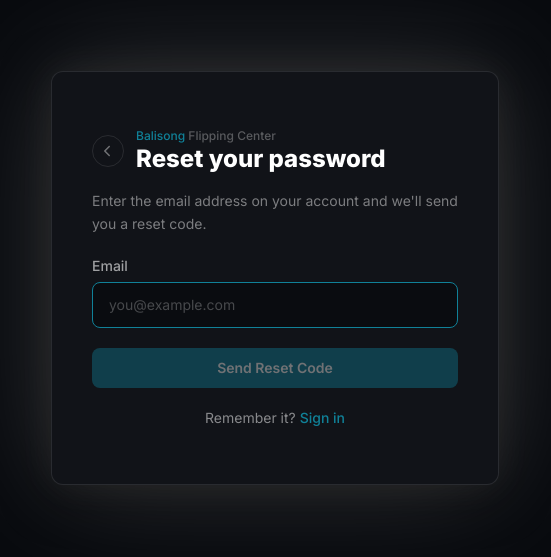
Test case: ForgotPasswordPage — email step › shows a specific message for an unknown email (404)
Type "nobody@example.com" into the field with placeholder "you@example.com". click: [275, 305]
box: [92,282,458,328]
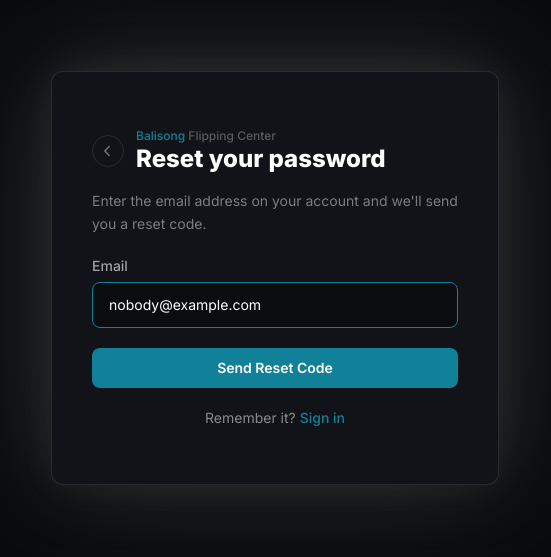
Click the button "Send Reset Code". click: [275, 368]
box: [92,348,458,388]
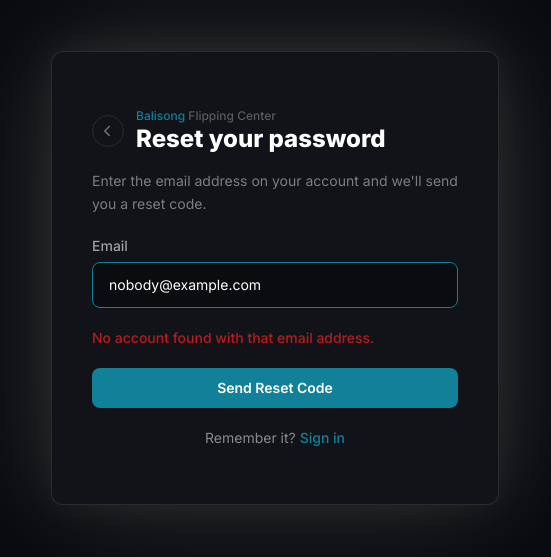
Result: the text "No account found with that email address." is shown at [92,329,374,346]
